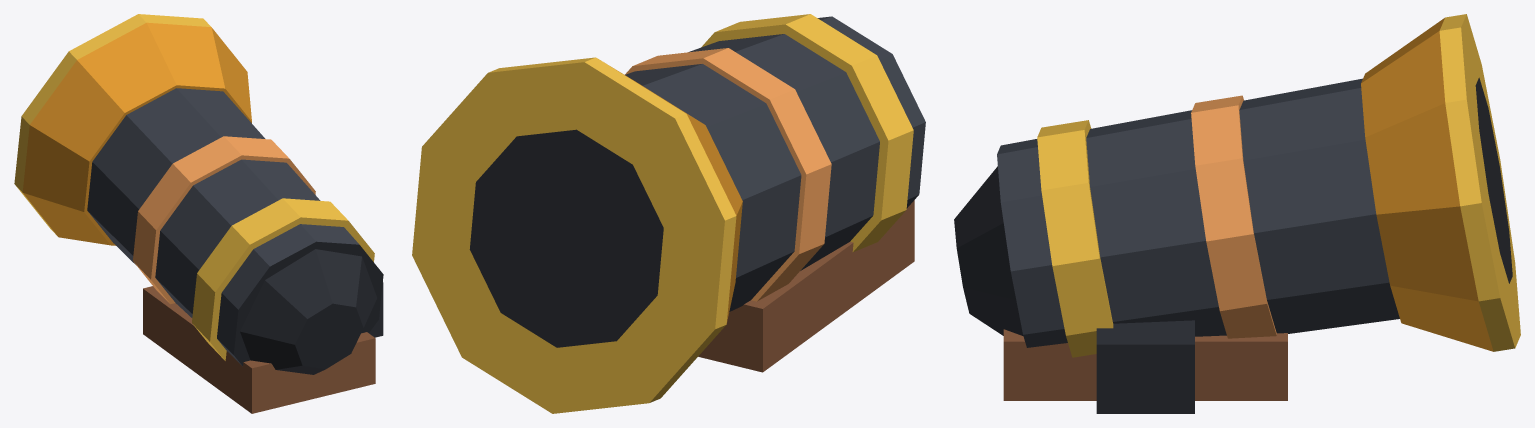
The model's file is G_Topik_4.fbx.
The picture shows the model from 3 angles, left to right: view 1: azimuth 30°, elevation 25°; view 2: azimuth 150°, elevation 25°; view 3: azimuth 270°, elevation 25°; orthographic projection. The views are drawn at different scales.
Parts seen in each view (by area): view 1: G_Topik_4; view 2: G_Topik_4; view 3: G_Topik_4.
Part boxes in pixels (x1,y1,x2,y2): G_Topik_4: (14,14,383,413); G_Topik_4: (412,14,925,413); G_Topik_4: (954,14,1520,413).
Size of the model in its own units: 0.3445 by 0.3892 by 0.5958.
